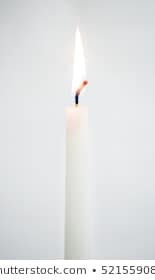Fire: (63, 23, 90, 97)
